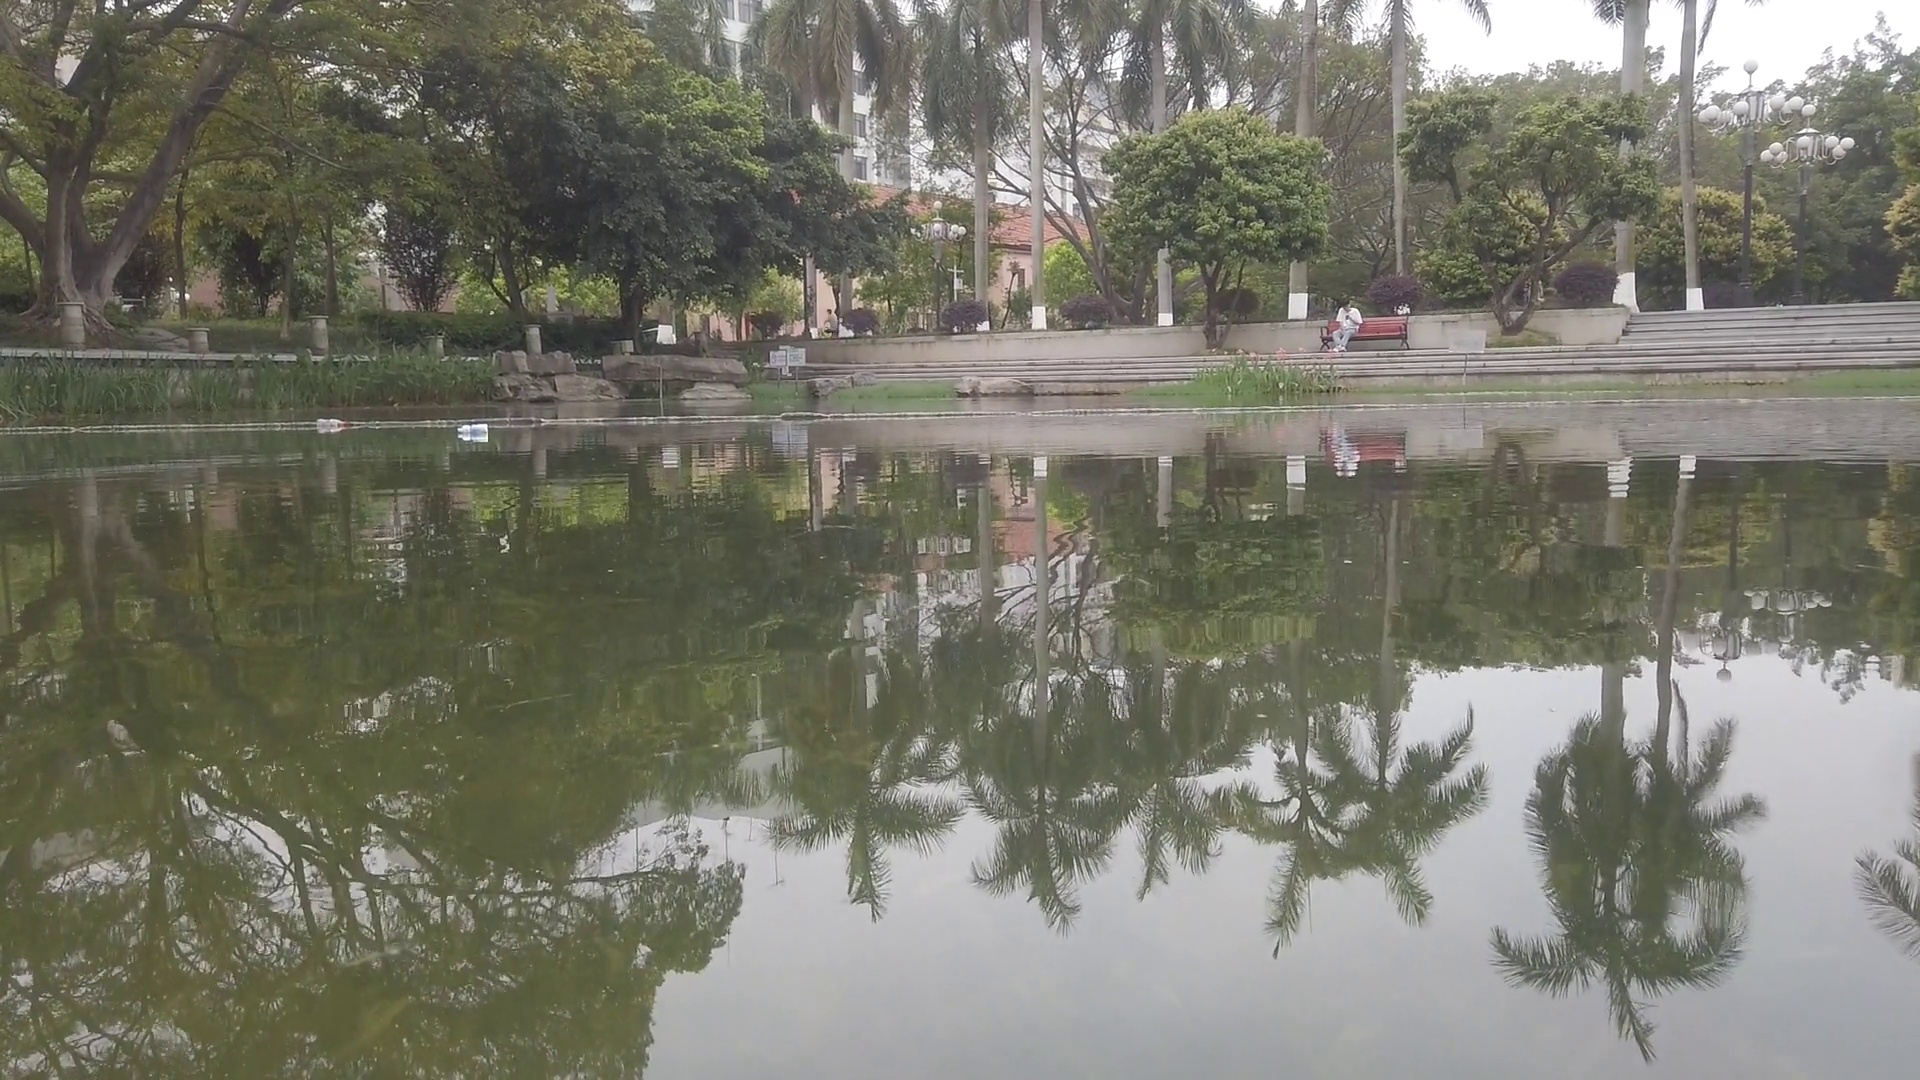bottle: (455, 423, 491, 435), (316, 418, 348, 431)
